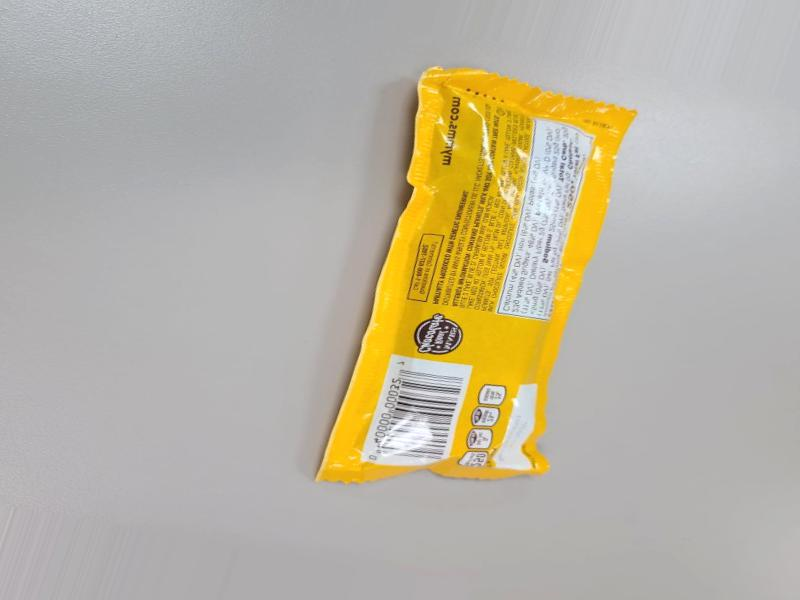m&m: (343, 5, 560, 482)
